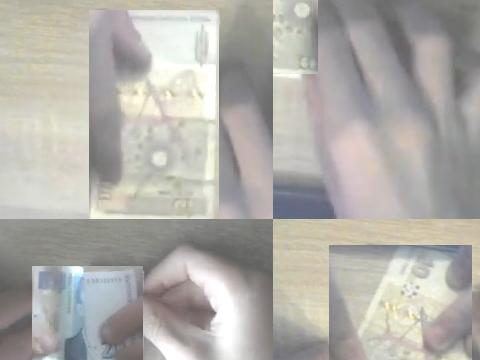10leva: (89, 10, 219, 219), (329, 245, 468, 360)
20leva: (34, 266, 137, 360)
